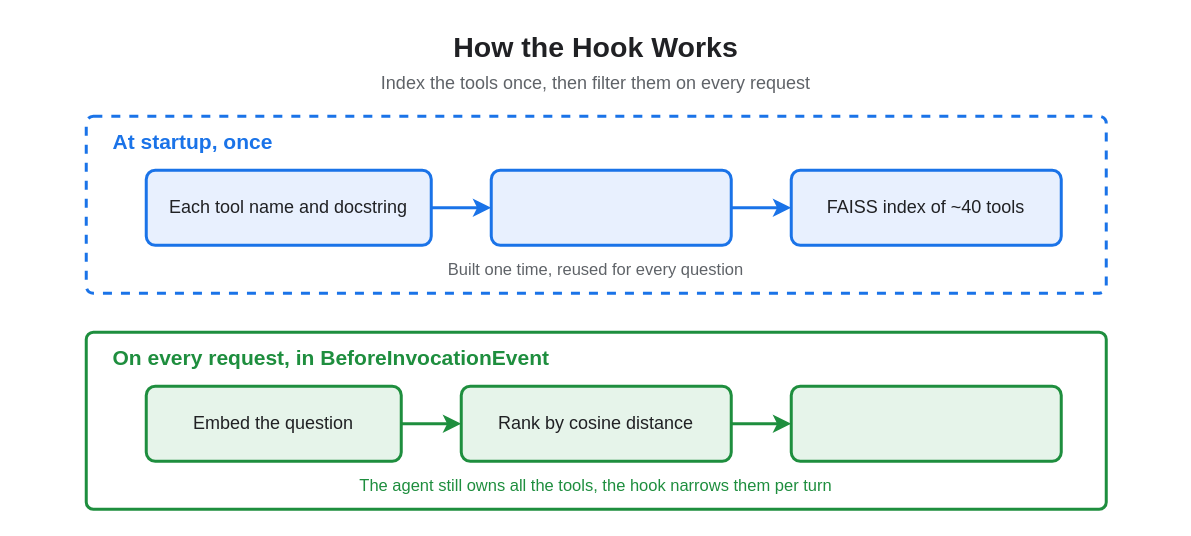
Some shapes in this 1191 by 536 pixel diagram are drawn without their labels. The shapes that lost their labels are listed below. From the top down, each one's centre as x and y in pixels, then its label:
[610,207]: Embed with an embedding model
[925,423]: Replace tool_registry with the top 3
